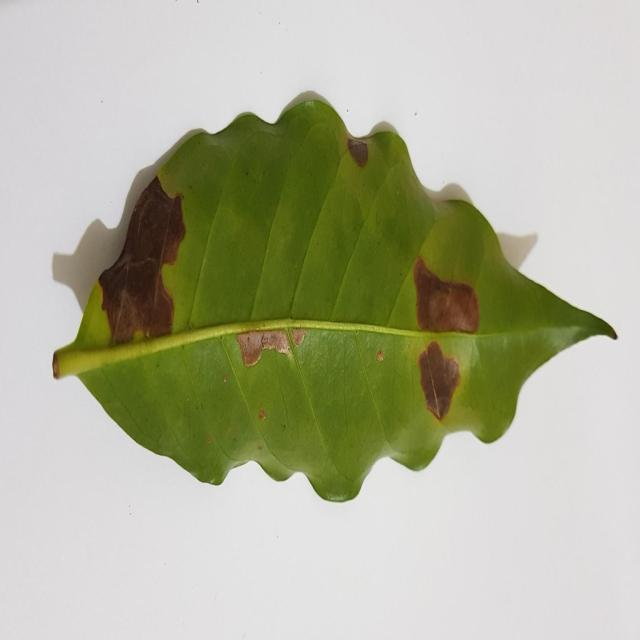Plaga-Minador: (52, 92, 618, 502)
